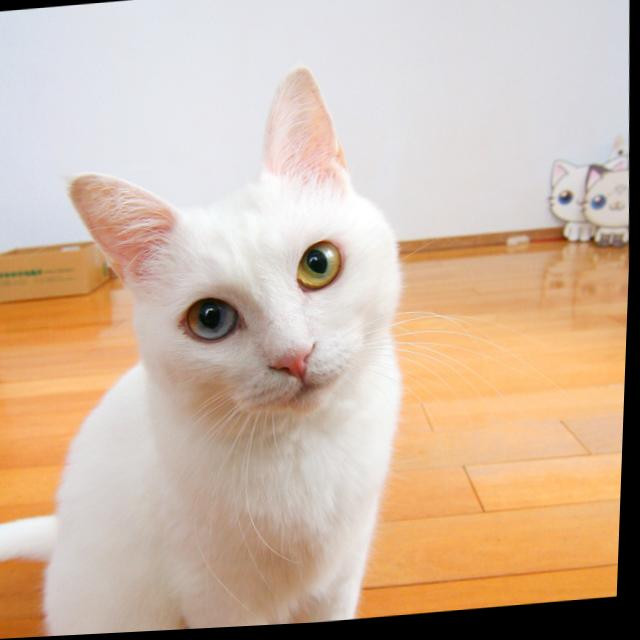animals: (68, 66, 357, 396)
